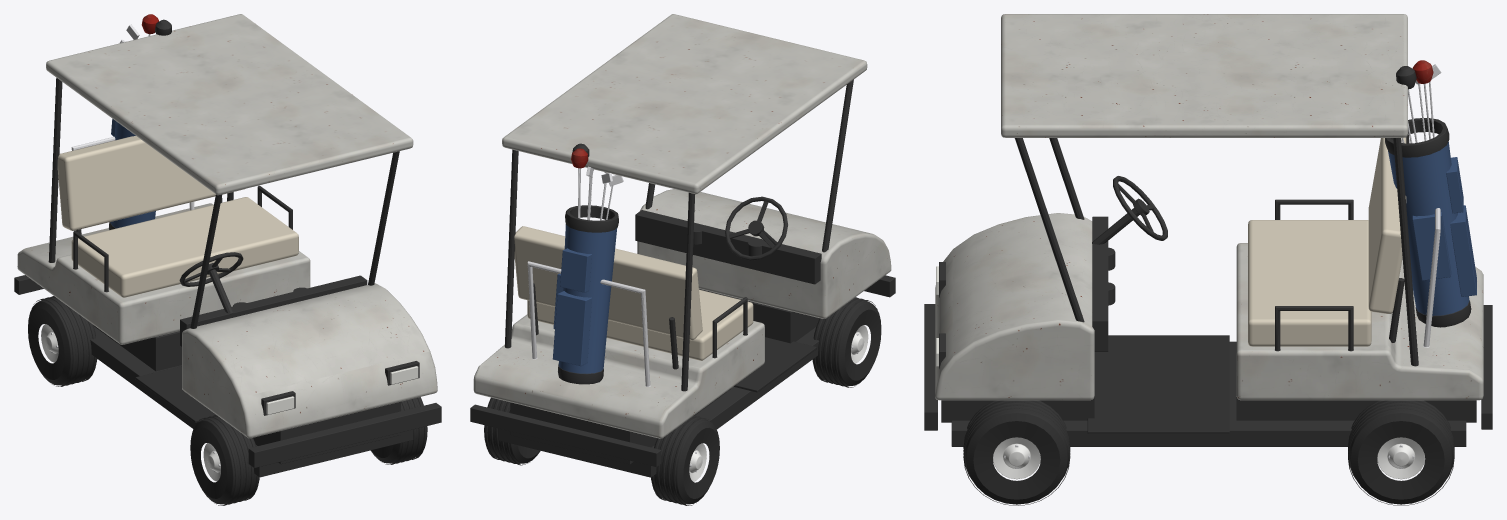
File: cart.glb
The picture shows the model from 3 angles, left to right: view 1: azimuth 30°, elevation 25°; view 2: azimuth 150°, elevation 25°; view 3: azimuth 270°, elevation 25°; orthographic projection. The views are drawn at different scales.
Parts seen in each view (by area): view 1: X_cart_Body, X_cart; view 2: X_cart_Body, X_cart; view 3: X_cart_Body, X_cart.
Part boxes in pixels (x1,y1,x2,y2): X_cart_Body: (17,14,437,438); X_cart: (14,14,441,505); X_cart_Body: (473,14,891,438); X_cart: (470,79,895,505); X_cart_Body: (935,14,1483,400); X_cart: (924,60,1492,505).
Bounding box in the file's own units: 1.2 × 1.91 × 2.49.
9 materials, 2 textured.
